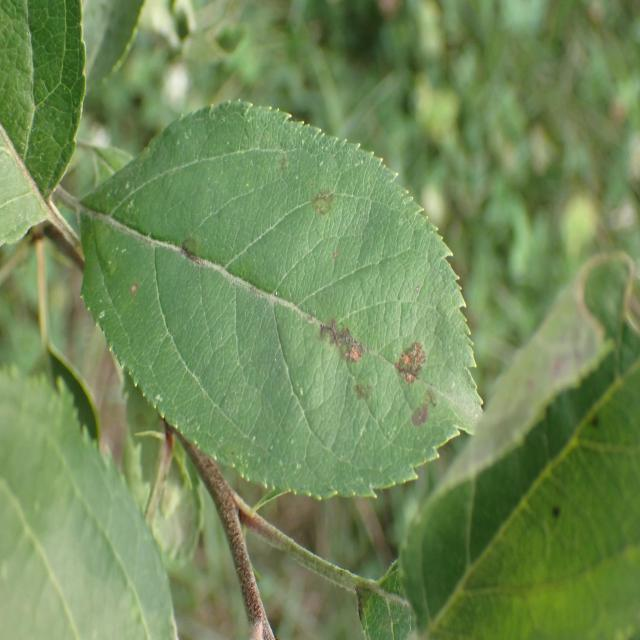scab: (101, 142, 459, 465)
